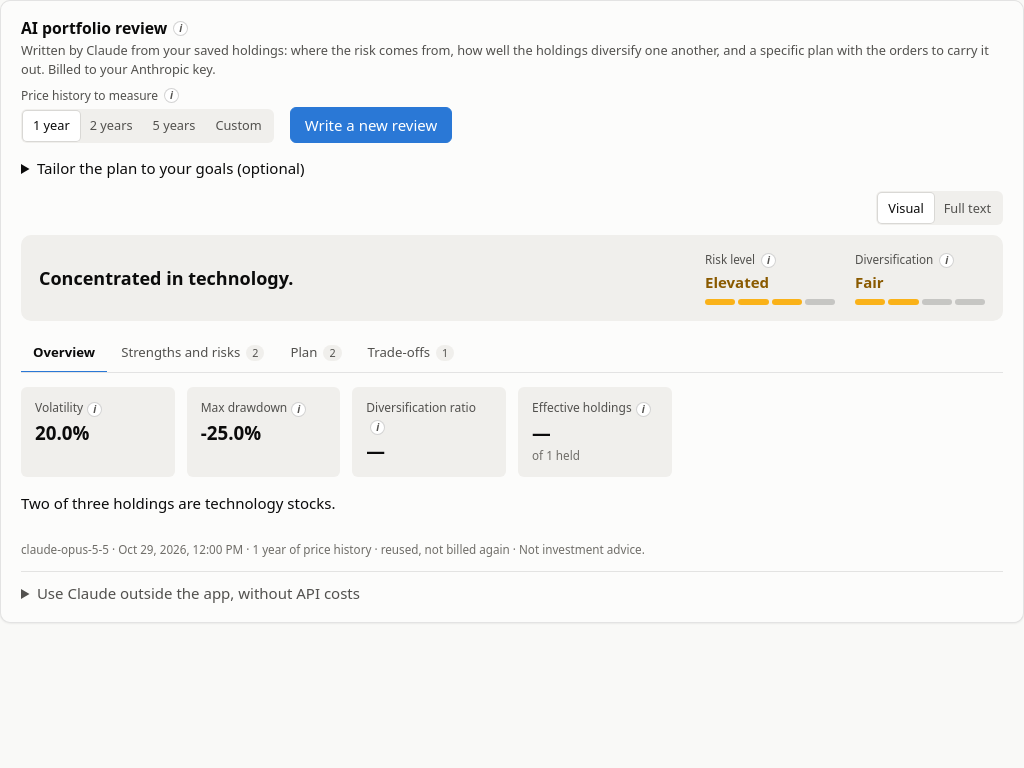
Test case: PortfolioReviewCard › shows the stored review, then streams a new one
Expected: the text "Concentrated in technology." is shown, x1=39 y1=266 x2=293 y2=290
Expected: the text "reused, not billed again" is shown, x1=372 y1=541 x2=510 y2=557
Click the tab "Plan 2" at (316, 354), box x1=278 y1=336 x2=354 y2=373
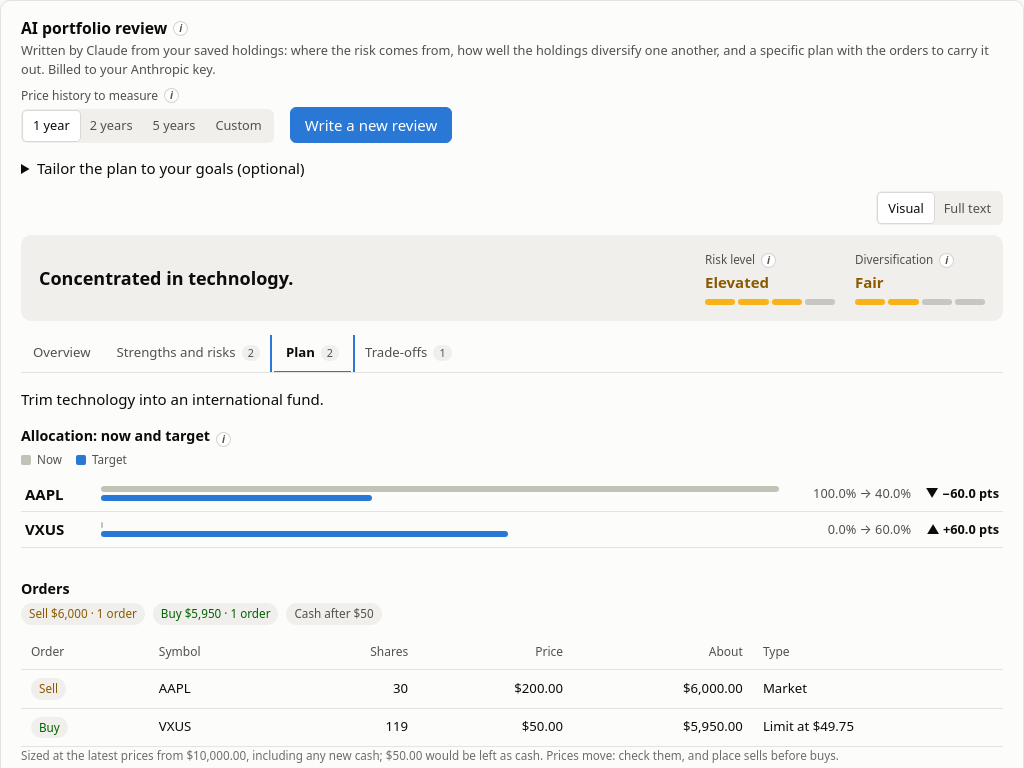
Now the text "Limit at $49.75" is shown, box x1=753 y1=708 x2=1003 y2=746
Now the text "119" is shown, box x1=288 y1=708 x2=418 y2=746
Click the button "Write a new review" at (371, 125), box x1=290 y1=107 x2=452 y2=143
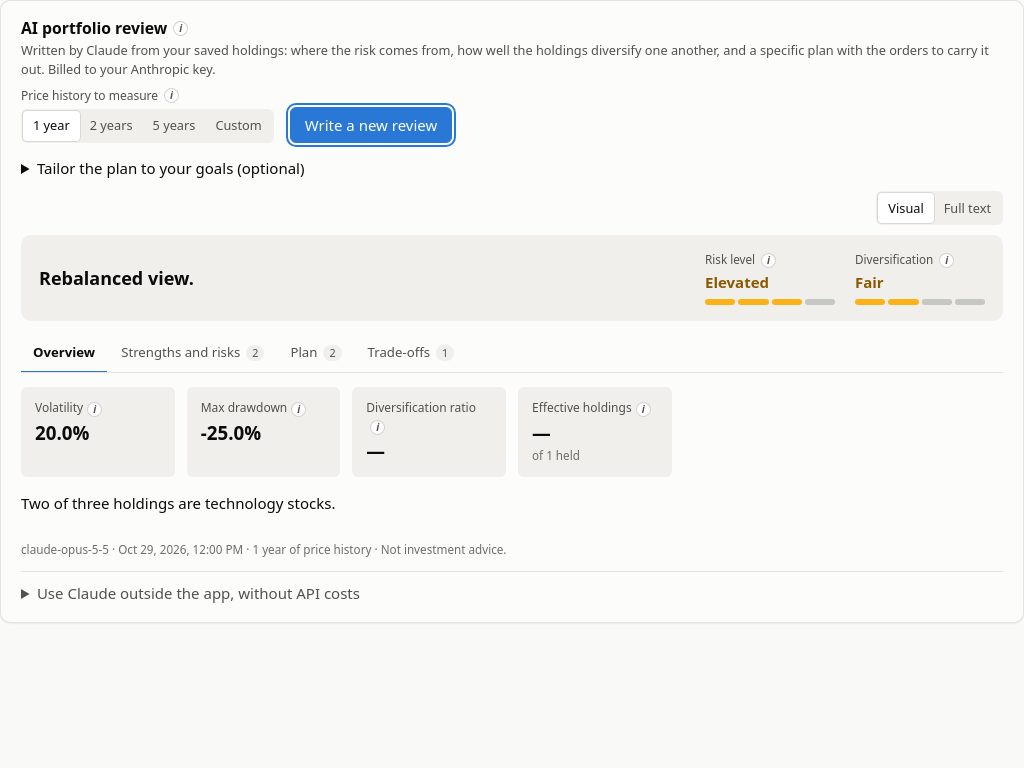
Now the text "Rebalanced view." is shown, box x1=39 y1=266 x2=194 y2=290
